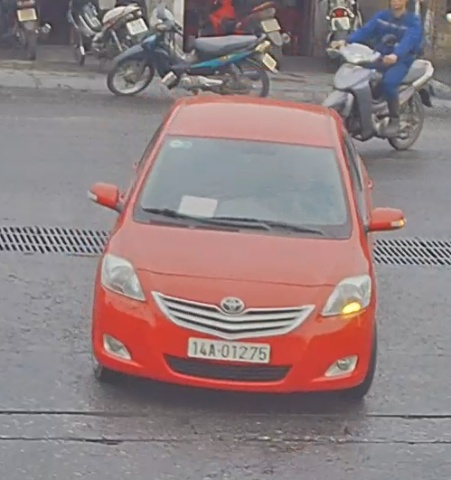vehicle plate: (186, 333, 274, 363)
